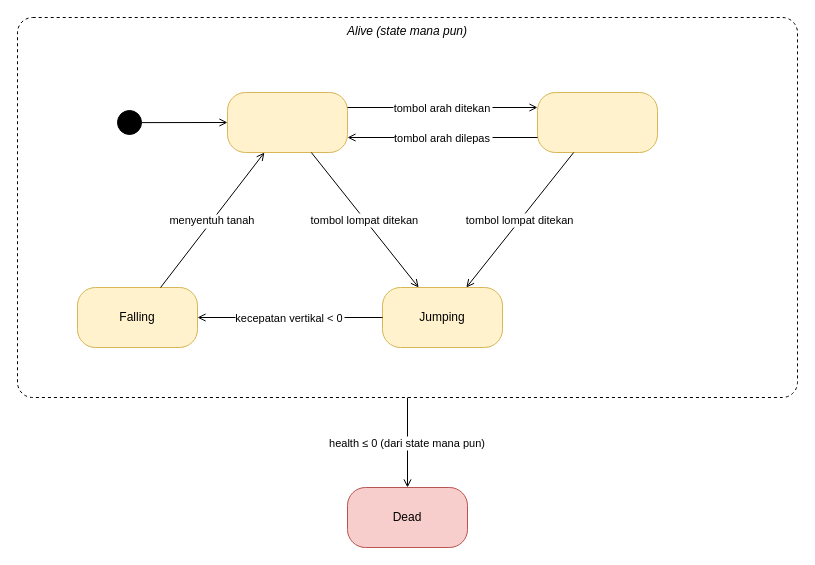
The diagram is 815 pixels wide and 565 high, and some of its shapes have lost their labels. Here are the shapes that lost their labels. From the top down, the centre of each, then its label:
pixel 287 122: Idle
pixel 597 122: Running
